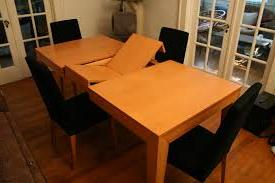chair: (24, 57, 109, 169), (169, 80, 261, 179), (156, 24, 189, 65), (44, 20, 87, 46)
door: (222, 0, 275, 89), (7, 0, 61, 73), (191, 2, 235, 69), (0, 0, 26, 86)
table: (92, 59, 242, 183), (39, 34, 125, 102), (72, 31, 165, 90), (243, 91, 275, 134)
